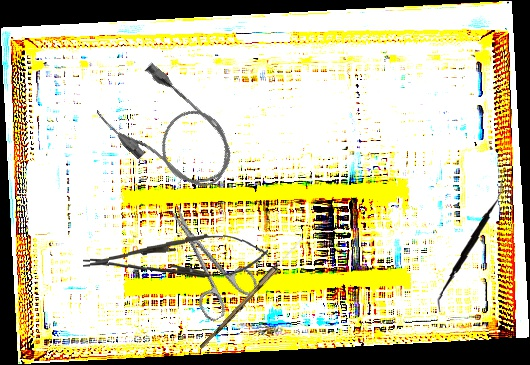Cannula: (90, 56, 249, 208)
Iris Scissors: (149, 191, 264, 325)
Needle Holder: (81, 230, 270, 285)
Spatula Surgical: (430, 181, 511, 312)
Surgical Spoon: (199, 235, 305, 352)
